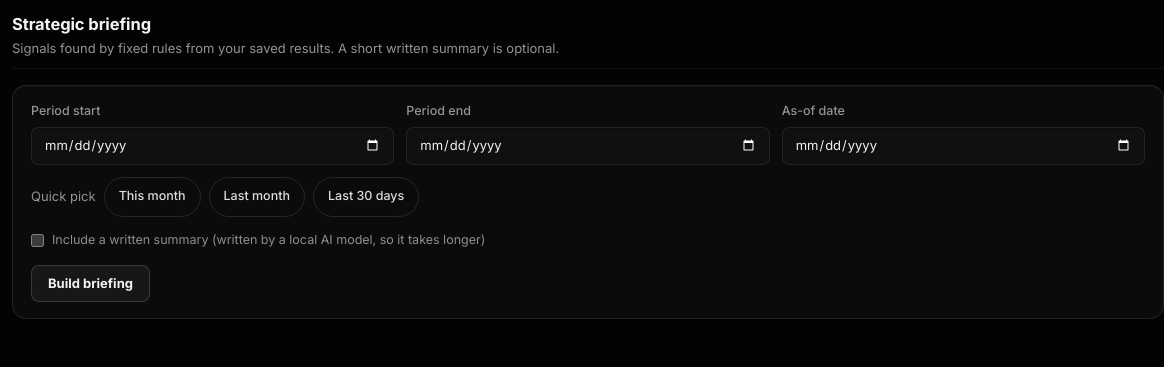
Test: Strategic briefing: missing inputs › lists the same missing input once however many identical signals arrive
This screenshot has width=1164, height=367.
Type "2026-09-30" into the date field labelled "Period start". click: (213, 146)
box: [31,127,394,164]
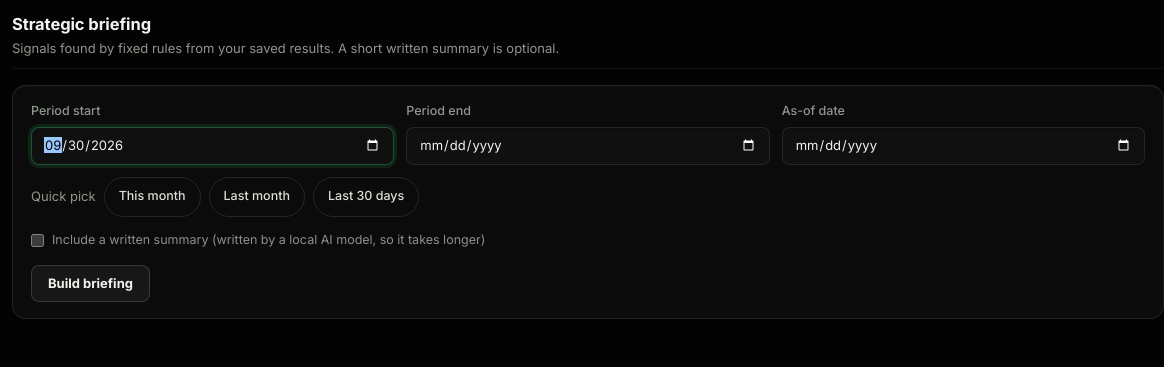
Type "2026-09-30" into the date field labelled "Period end". click: (588, 146)
box: [406,127,770,164]
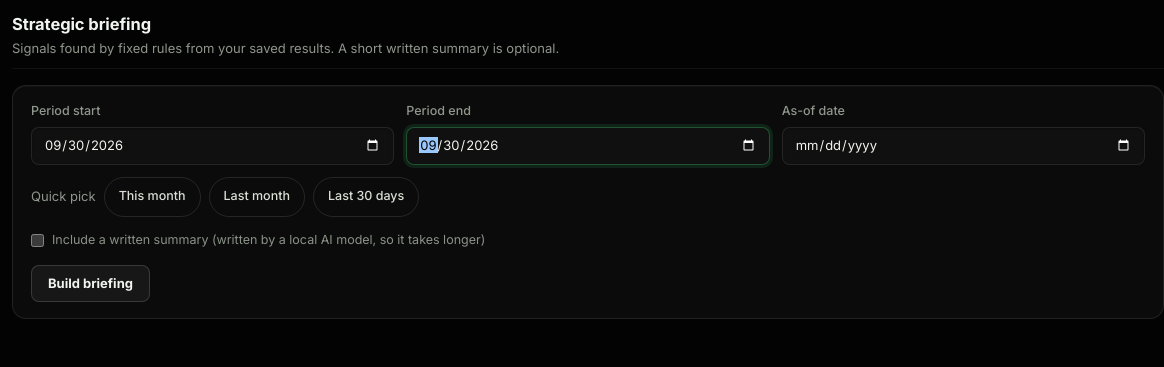
Type "2026-09-30" into the date field labelled "As-of date". click: (963, 146)
box: [782,127,1145,164]
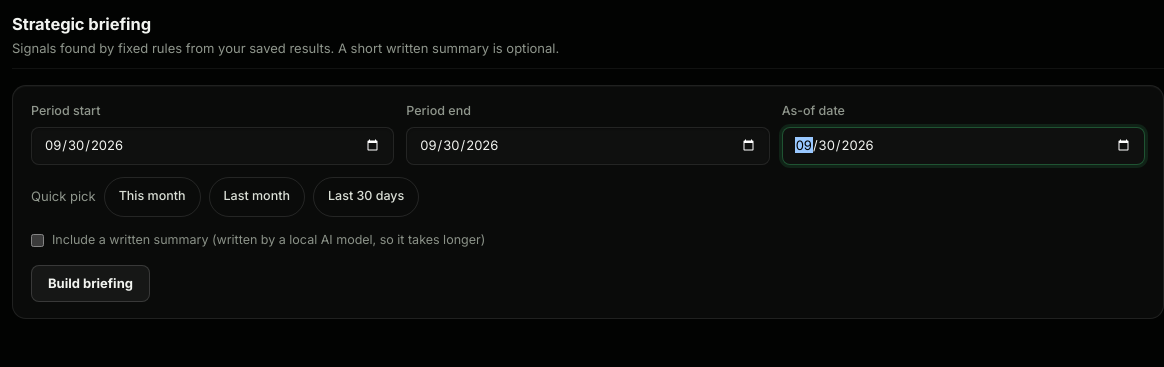
Click the button "Build briefing". click: click(90, 283)
box: [31,264,150,302]
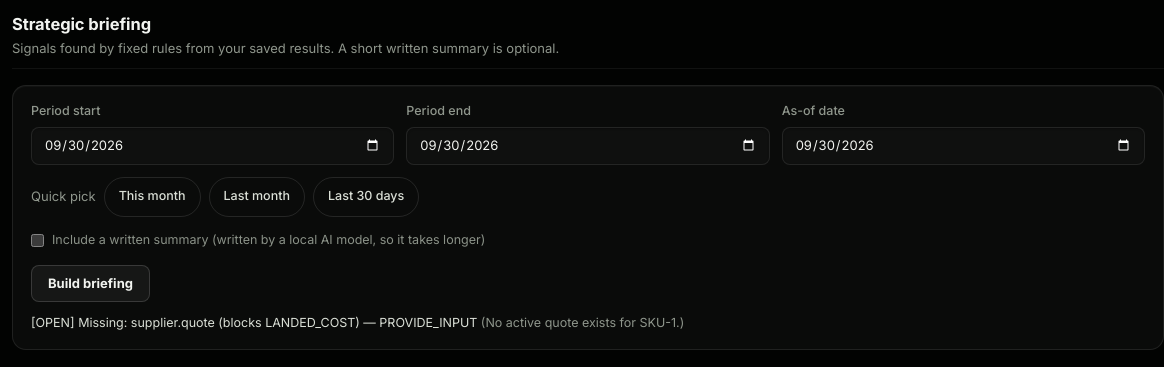
Result: the text "Missing: supplier.quote (blocks LANDED_COST)" is shown once at [31,315,684,330]
